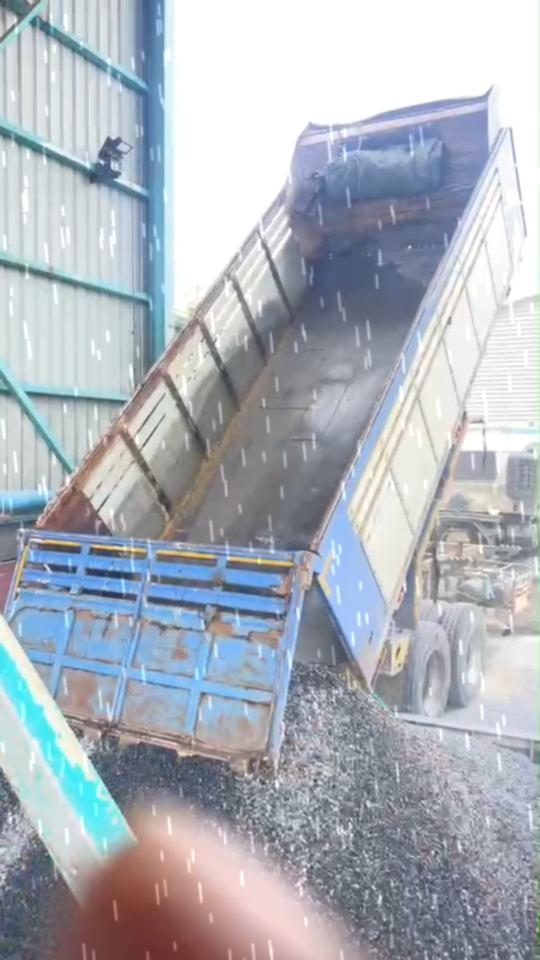gravel: (95, 668, 537, 959), (0, 805, 61, 959)
